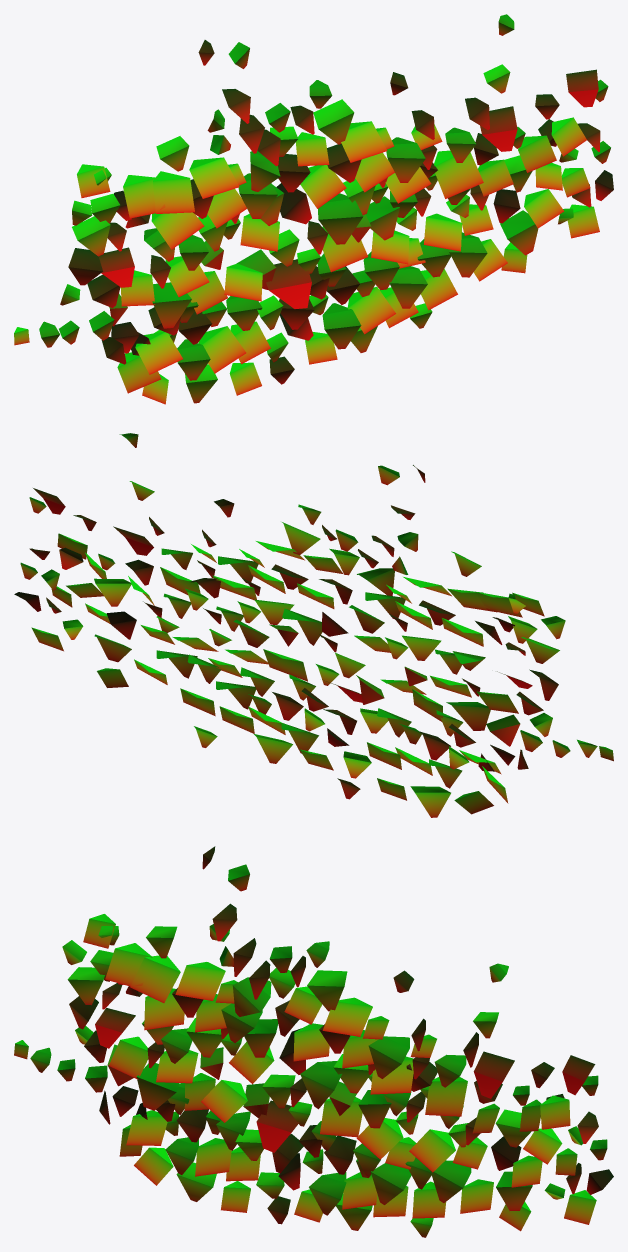
Rendered from Lierre4_LOD1.fbx.
3 renders of one model, top to bottom at view 1: azimuth 30°, elevation 25°; view 2: azimuth 150°, elevation 25°; view 3: azimuth 330°, elevation 25°, orthographic.
Visible parts, largest first — view 1: _70f1_Var3_LOD2; view 2: _70f1_Var3_LOD2; view 3: _70f1_Var3_LOD2.
Part boxes in pixels (box(x1,y1,x2,y2)): _70f1_Var3_LOD2: box(14, 14, 613, 404); _70f1_Var3_LOD2: box(14, 433, 613, 817); _70f1_Var3_LOD2: box(14, 846, 613, 1237).
Bounding box in the file's own units: 90.73 × 51.63 × 8.22.
